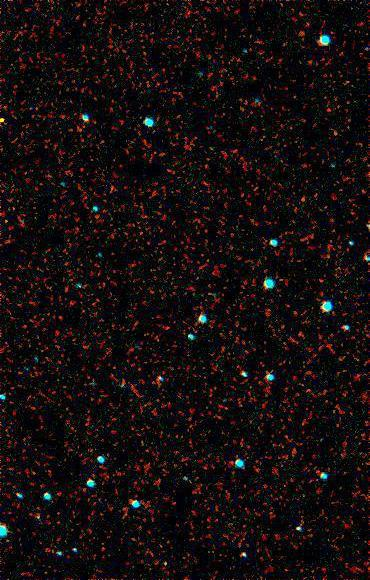star: (0, 105, 15, 135)
